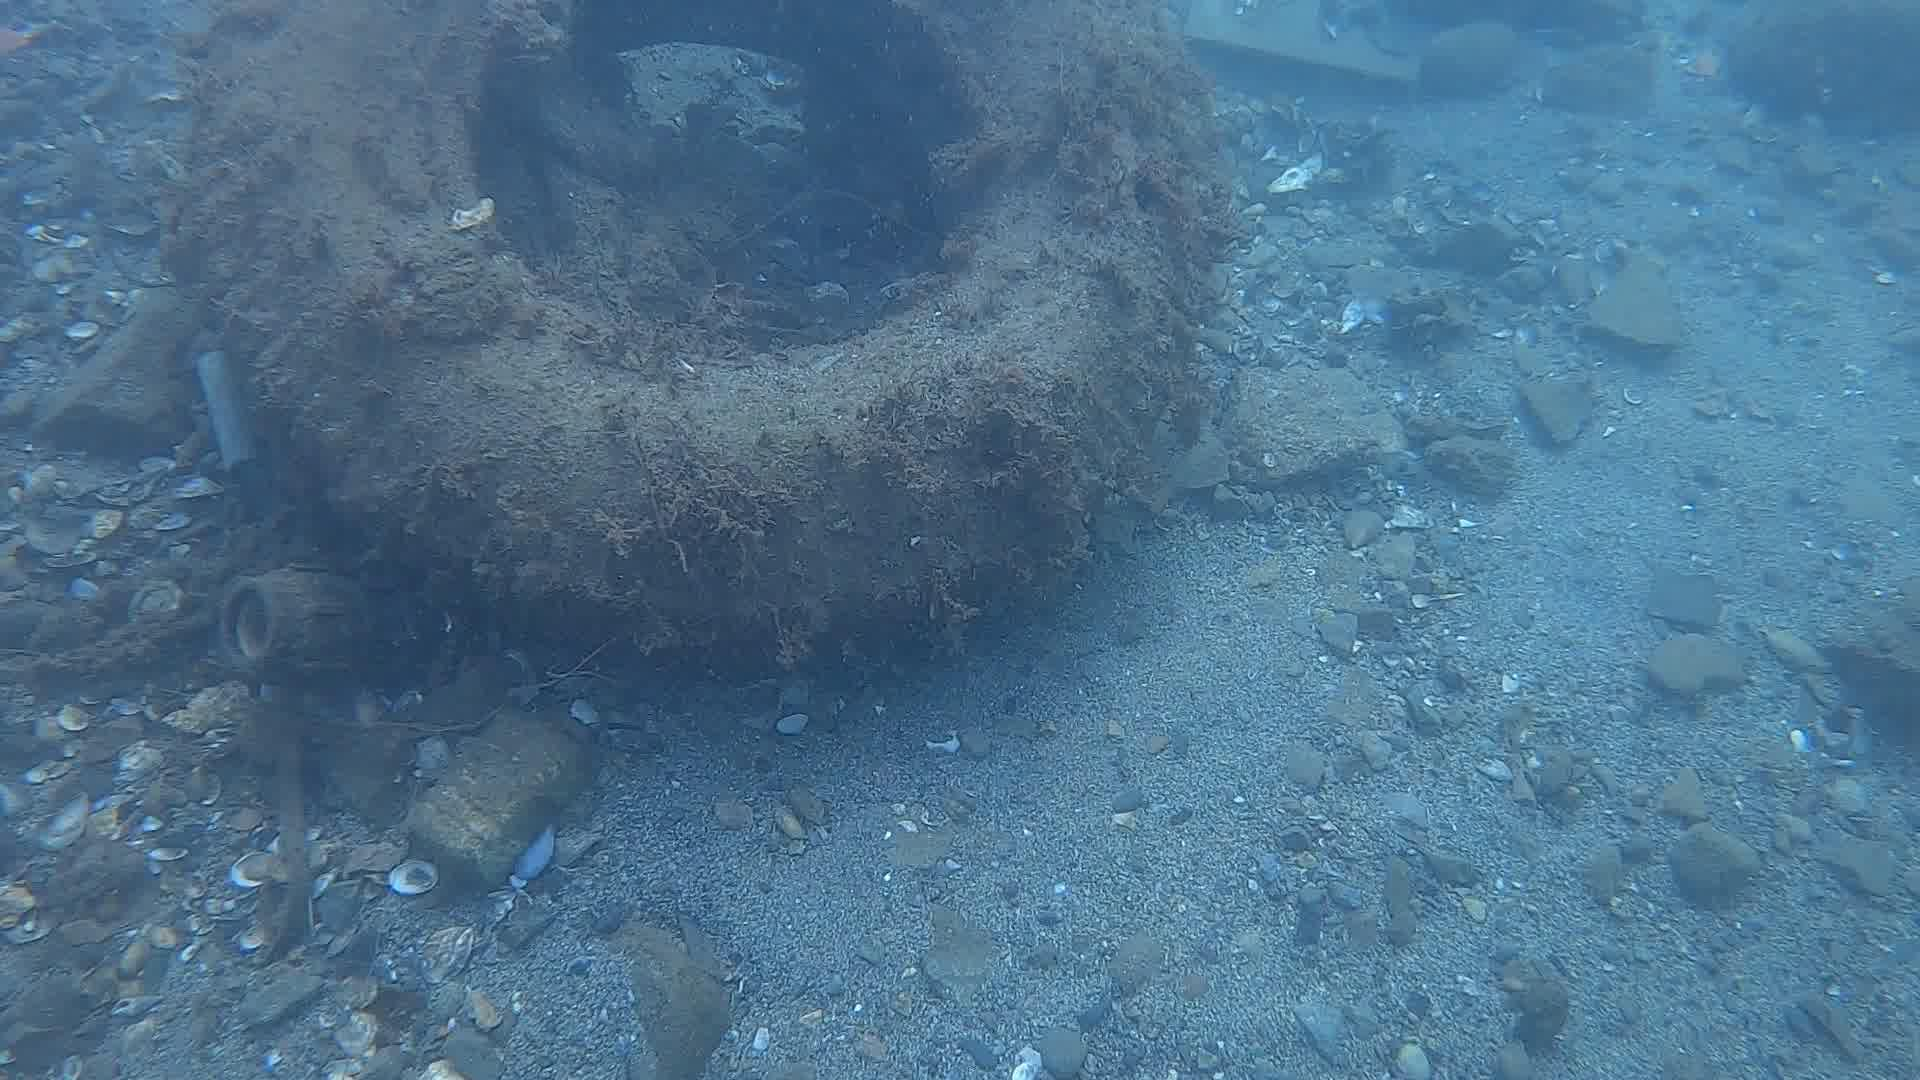tire: (177, 0, 1215, 653)
